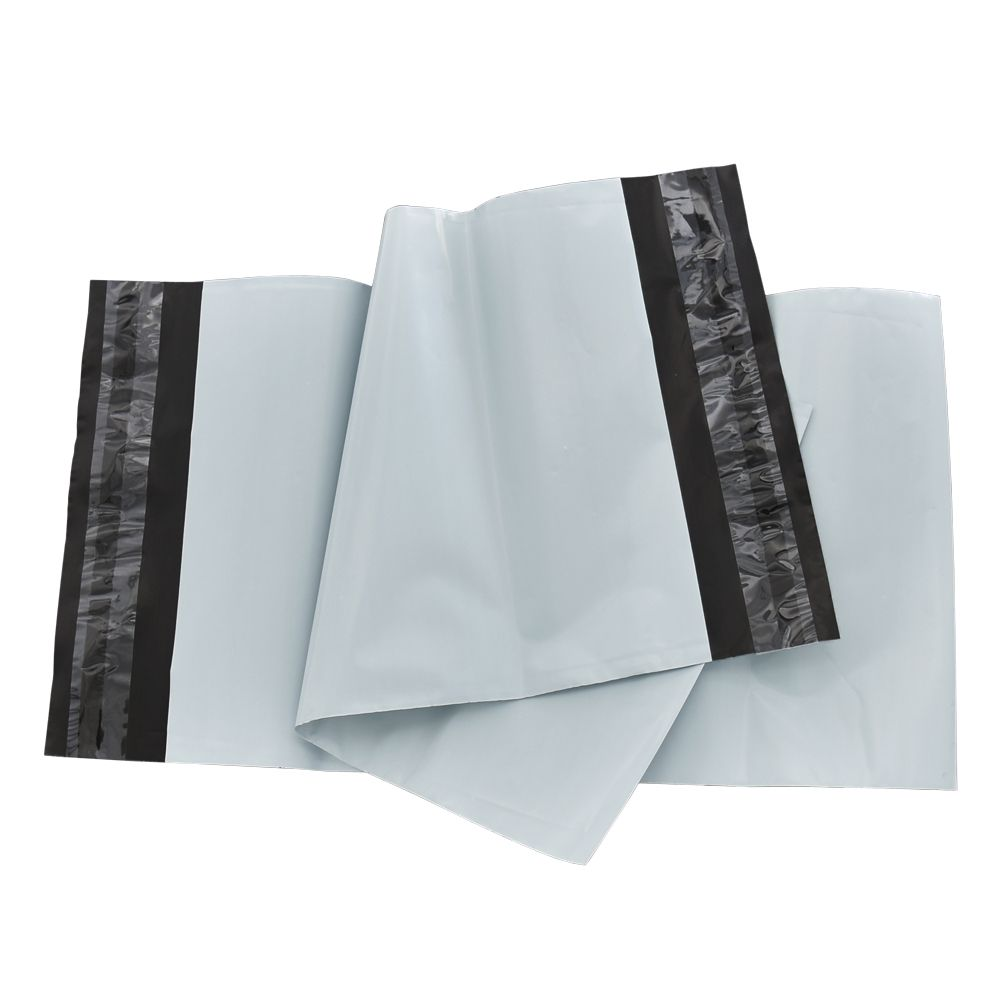Parcel: (46, 165, 956, 863)
